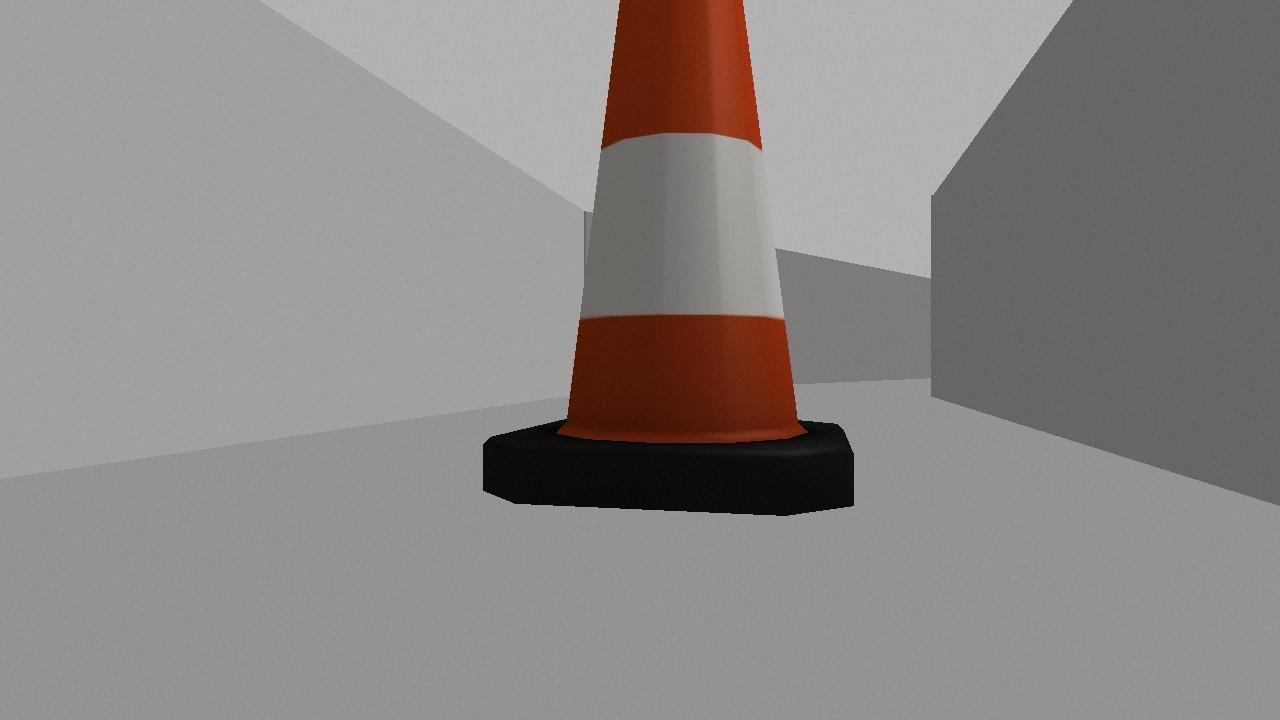cone_barrel: (480, 0, 853, 514)
